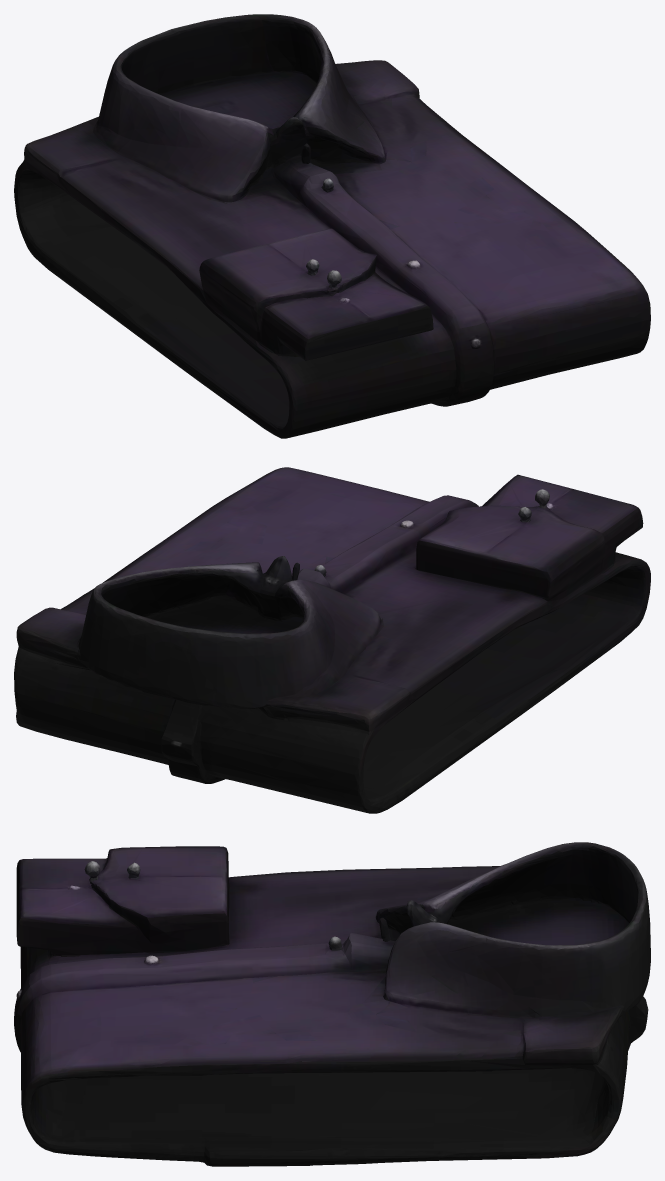
File: jacket_denim_blue_shearling.glb
3 views of the same model, one above another, from view 1: azimuth 30°, elevation 25°; view 2: azimuth 150°, elevation 25°; view 3: azimuth 270°, elevation 25° (orthographic). The views are drawn at different scales.
Visible parts, largest first — view 1: geometry_0; view 2: geometry_0; view 3: geometry_0.
Part boxes in pixels (<box>): geometry_0: <box>14,14,650,438</box>; geometry_0: <box>14,467,650,813</box>; geometry_0: <box>14,842,650,1166</box>.
Size of the model in its own units: 0.701 by 0.3269 by 0.9956.
1 material, 1 textured.
